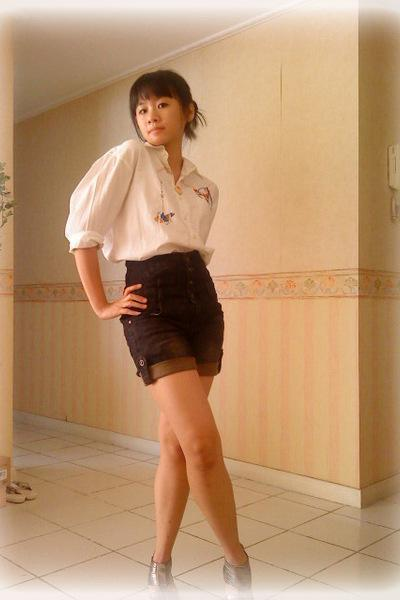shirt: (65, 140, 218, 259)
shoe: (156, 554, 250, 586)
skirt: (119, 250, 223, 385)
